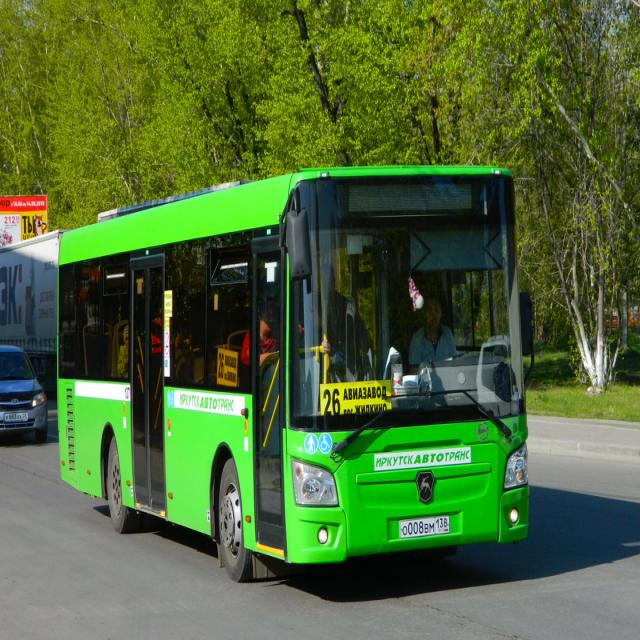number-of-bus: (322, 385, 344, 419)
